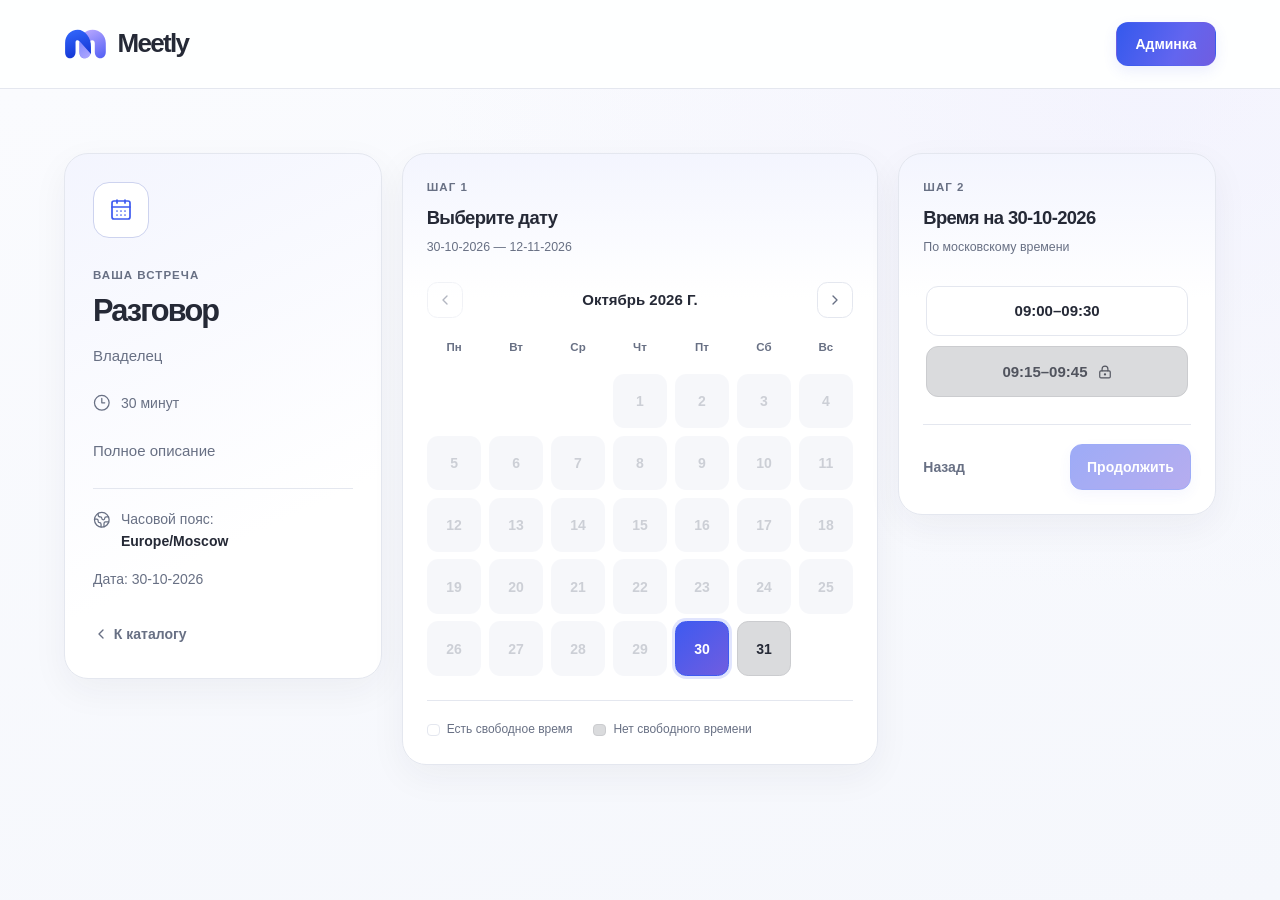
Test: fresh check clears slot removed by notice expiry without choosing replacement
Click the button named "09:00–09:30 — Свободно".
click(1057, 311)  # box [926,286,1188,336]
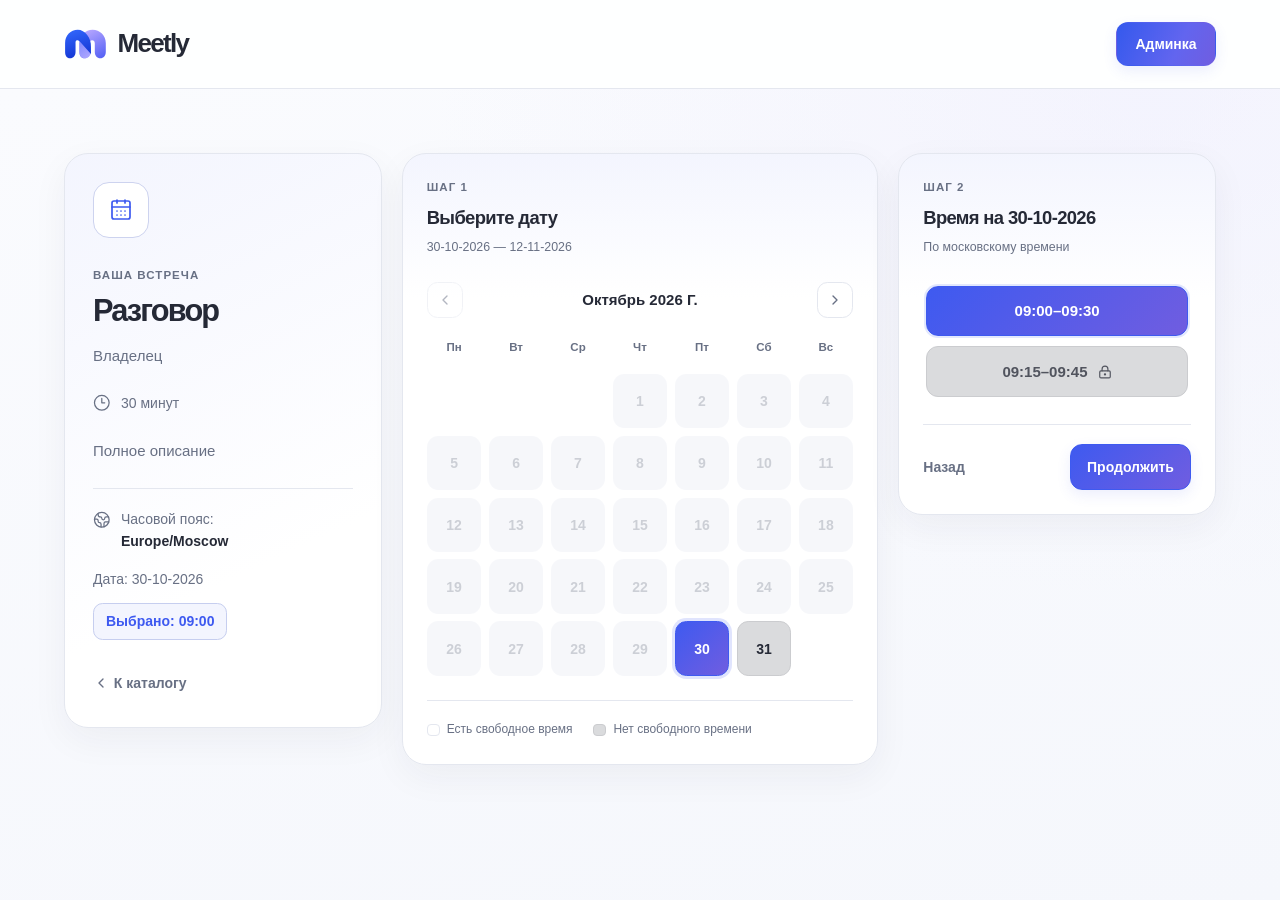
Click the button "Продолжить".
click(1130, 467)  # box [1070,444,1191,490]
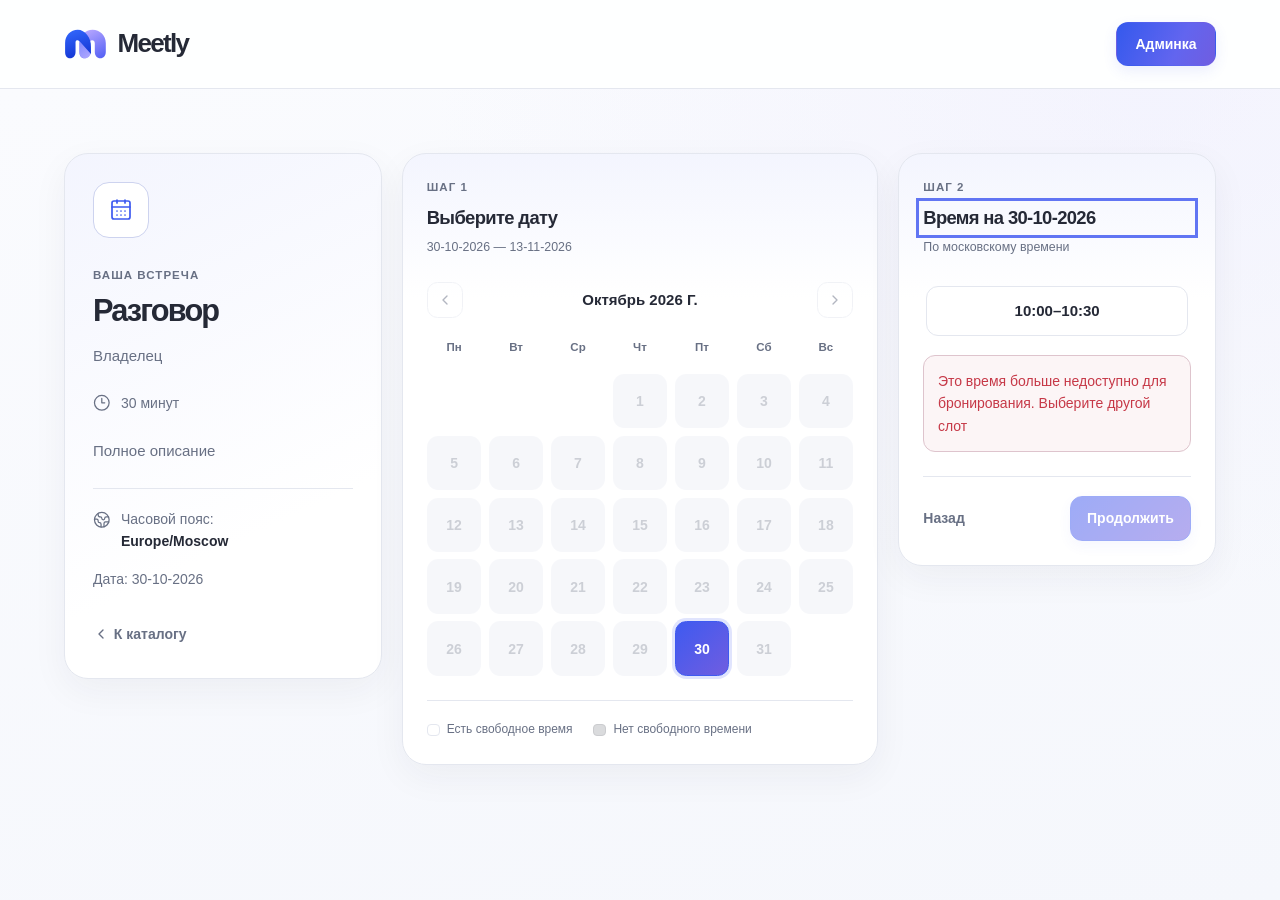
Expected: the text "Это время больше недоступно для бронирования. Выберите другой слот" is shown, [923,355,1191,452]
Expected: the button "Продолжить" is disabled, [1070,496,1191,541]
Expected: the text "Выбрано:" is gone
